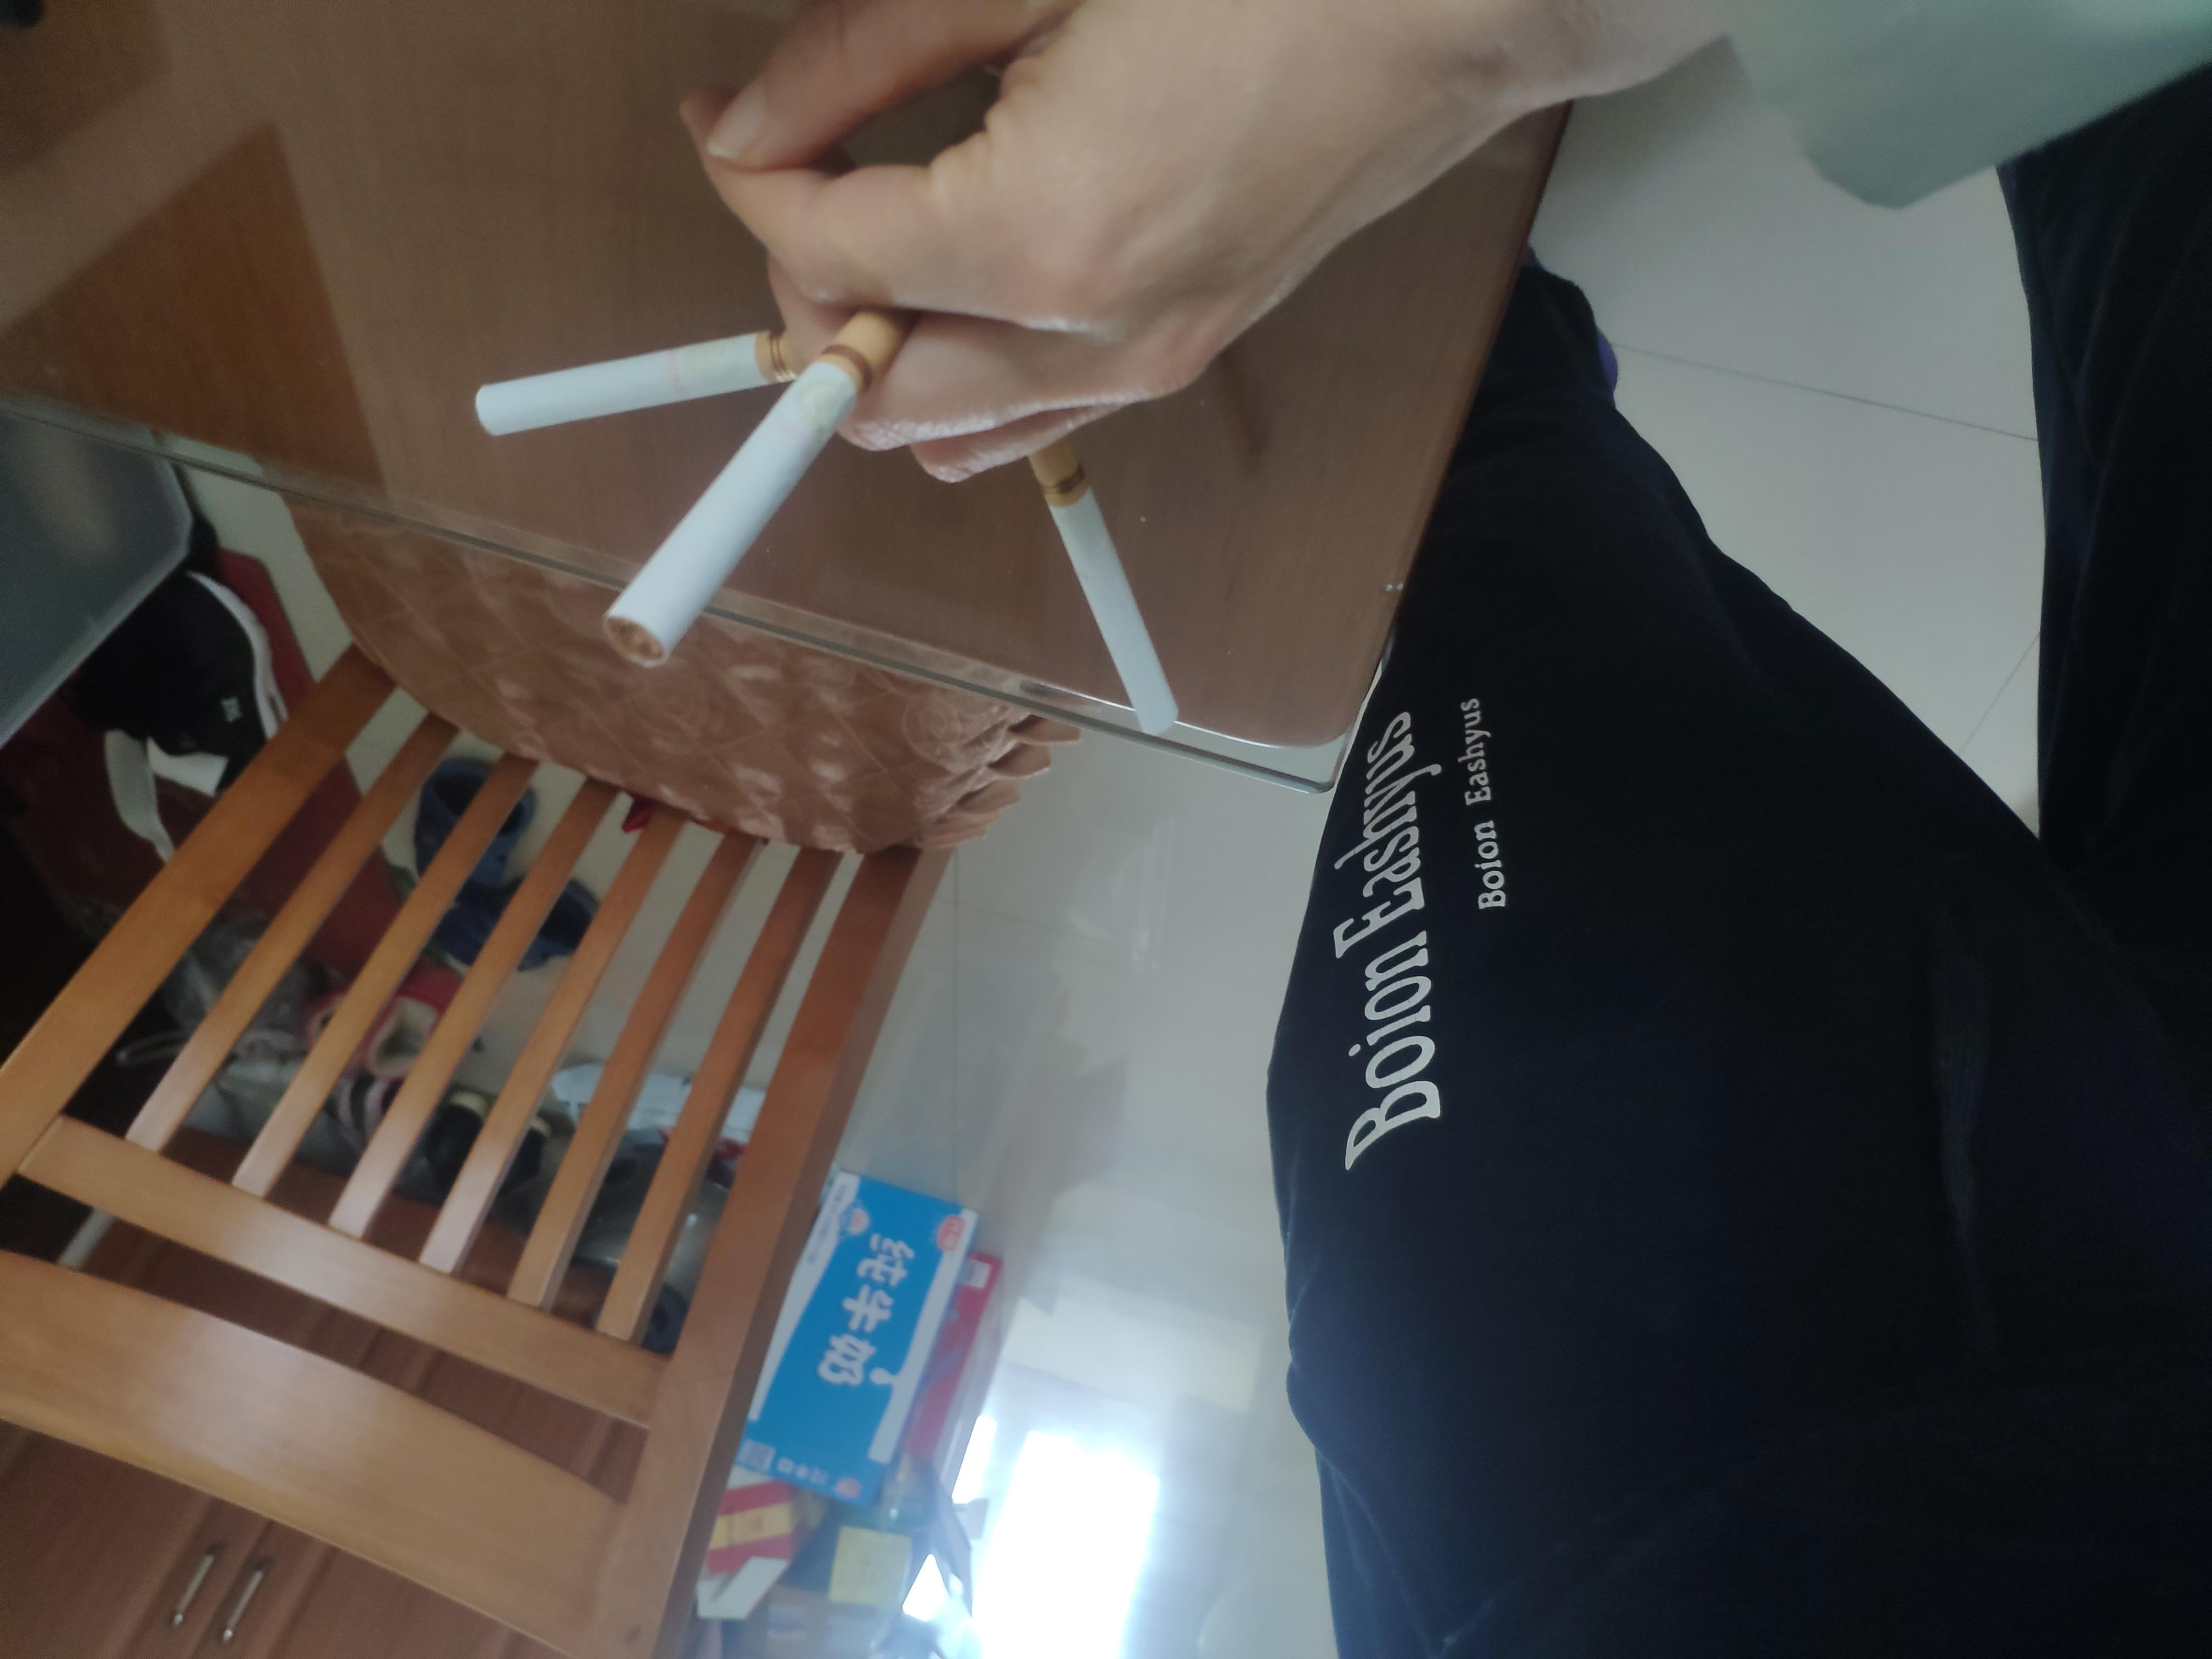smoke: (1273, 985, 1616, 1385), (1029, 918, 1211, 1279), (1336, 1220, 1743, 1352)
